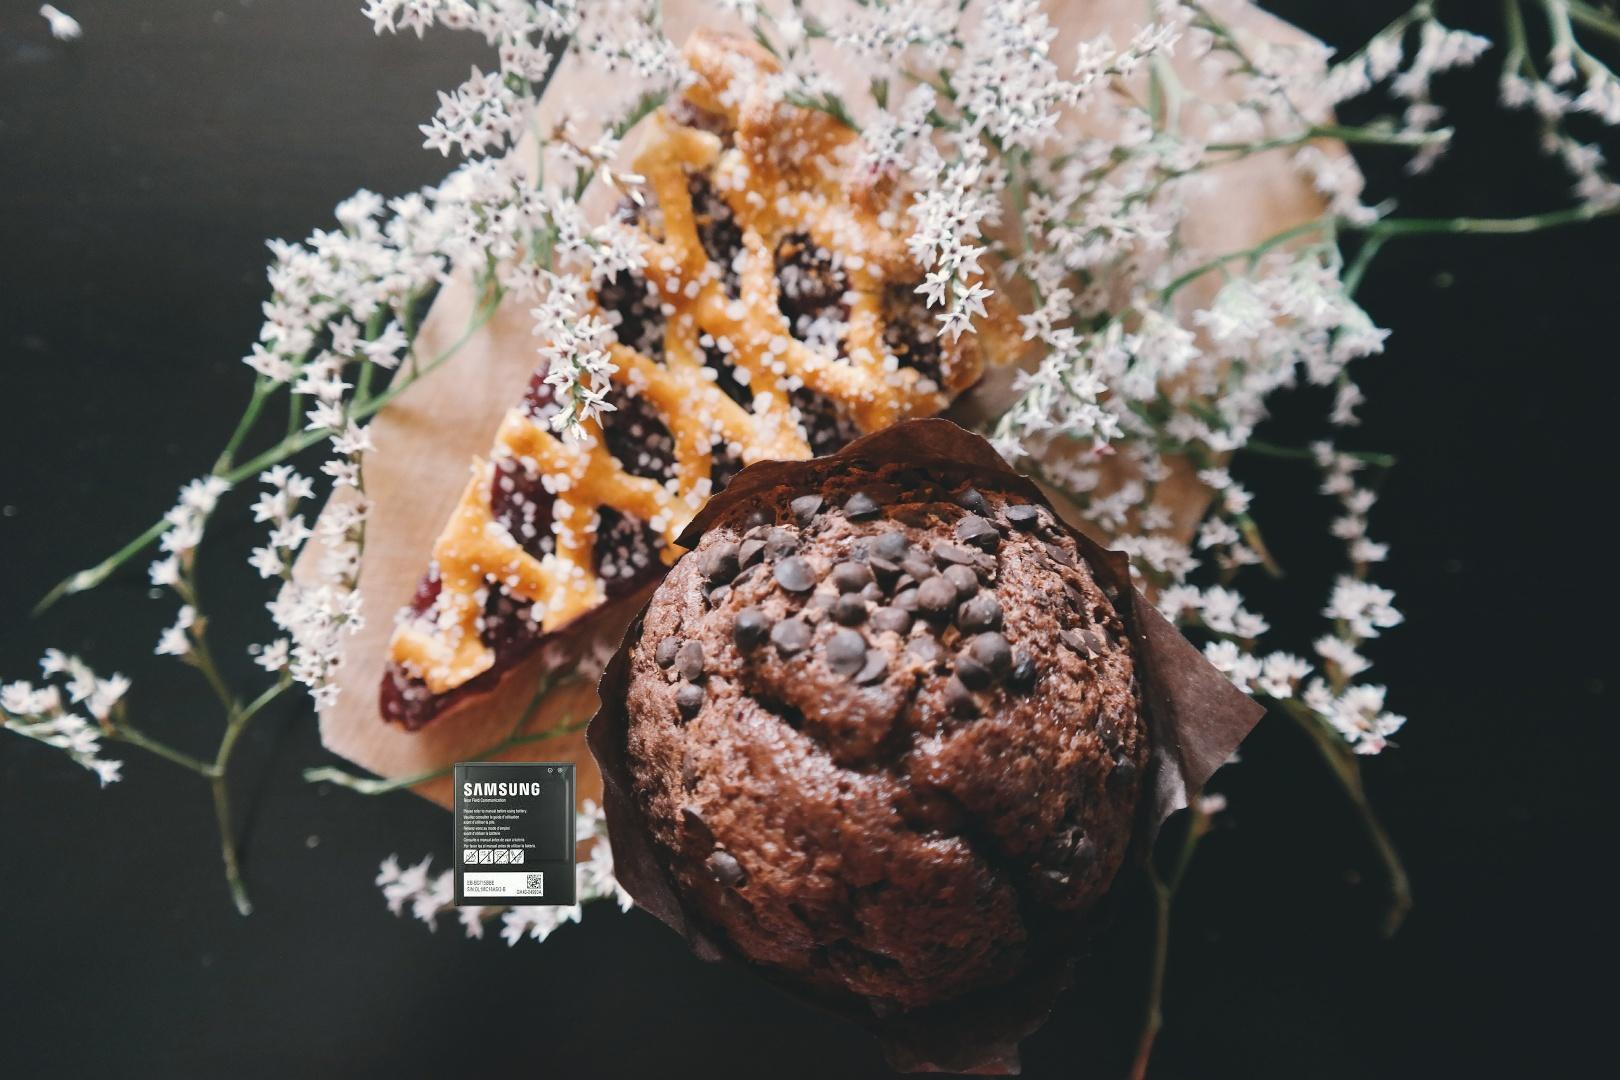battery: (450, 759, 579, 909)
